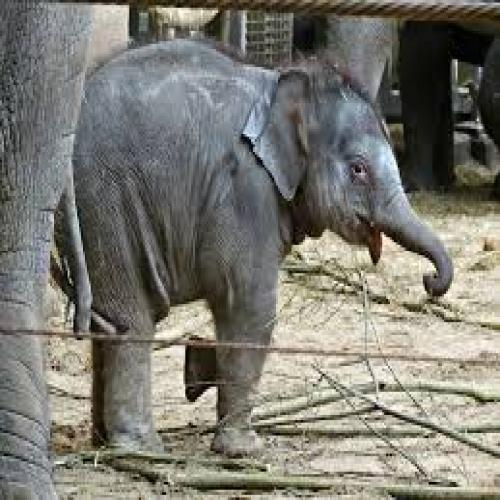asian_elephant-endangered: (0, 0, 388, 495), (56, 34, 456, 454)
